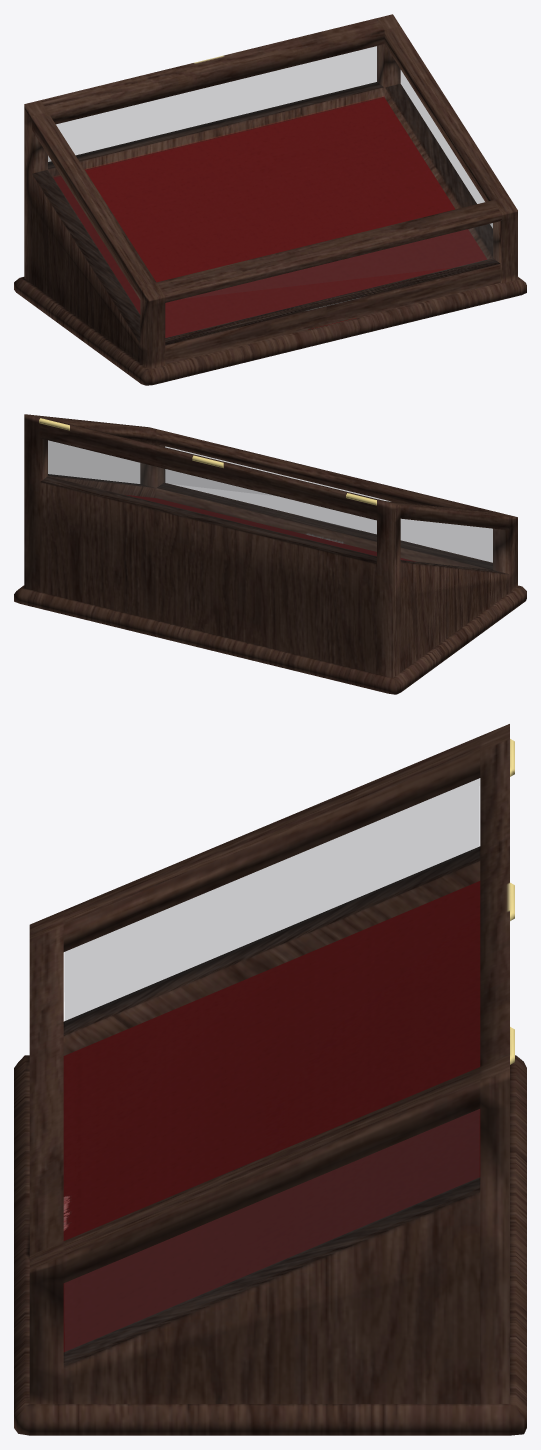
File: flatcase_baseonly.gltf
3 views of the same model, one above another, from view 1: azimuth 30°, elevation 25°; view 2: azimuth 150°, elevation 25°; view 3: azimuth 270°, elevation 25° (orthographic). The views are drawn at different scales.
Visible parts, largest first — view 1: LP_displey_case; view 2: LP_displey_case; view 3: LP_displey_case.
Boxes of the visible parts, bbox=[...] form: LP_displey_case: bbox=[14, 14, 526, 385]; LP_displey_case: bbox=[14, 414, 526, 694]; LP_displey_case: bbox=[14, 724, 526, 1435].
Size of the model in its own units: 4.99 by 2.31 by 3.
Materials: 3 (3 with a texture image).
